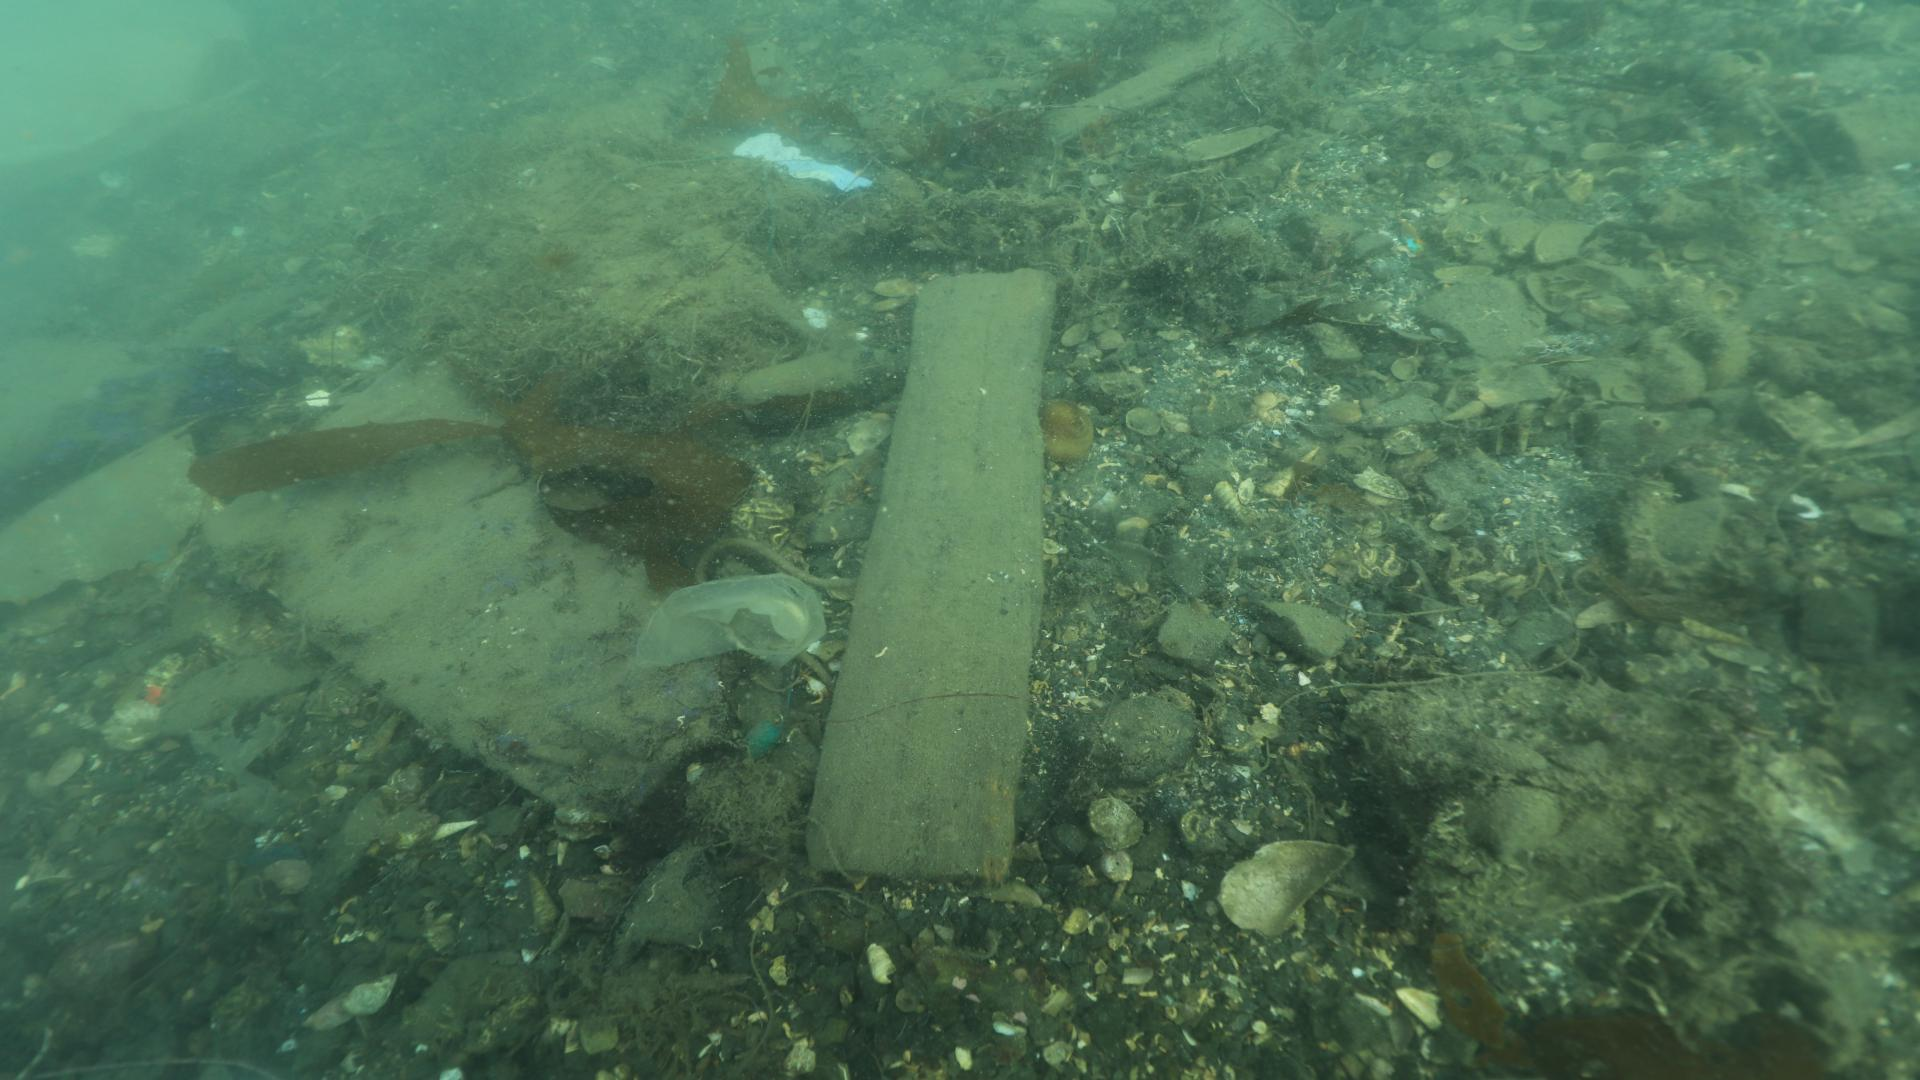wood: (799, 265, 1067, 884)
